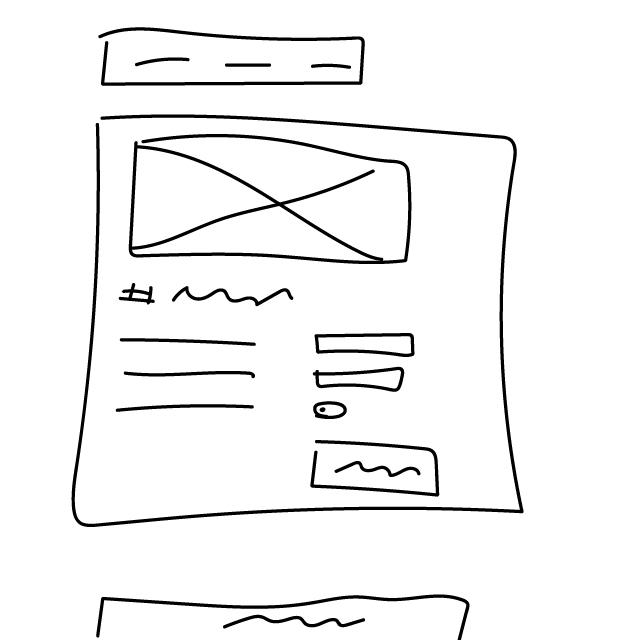button: (305, 436, 446, 502)
checkbox: (313, 400, 350, 423)
container: (66, 102, 541, 541)
footer: (84, 588, 487, 640)
frame: (122, 132, 421, 278)
heading: (114, 281, 302, 318)
input: (313, 329, 418, 358), (314, 364, 409, 393)
nav: (94, 22, 369, 93)
text: (116, 336, 269, 419)
